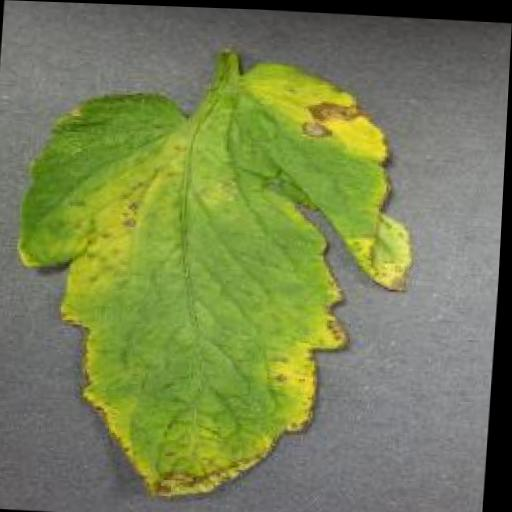Bacterial Spot: (0, 47, 438, 508)
